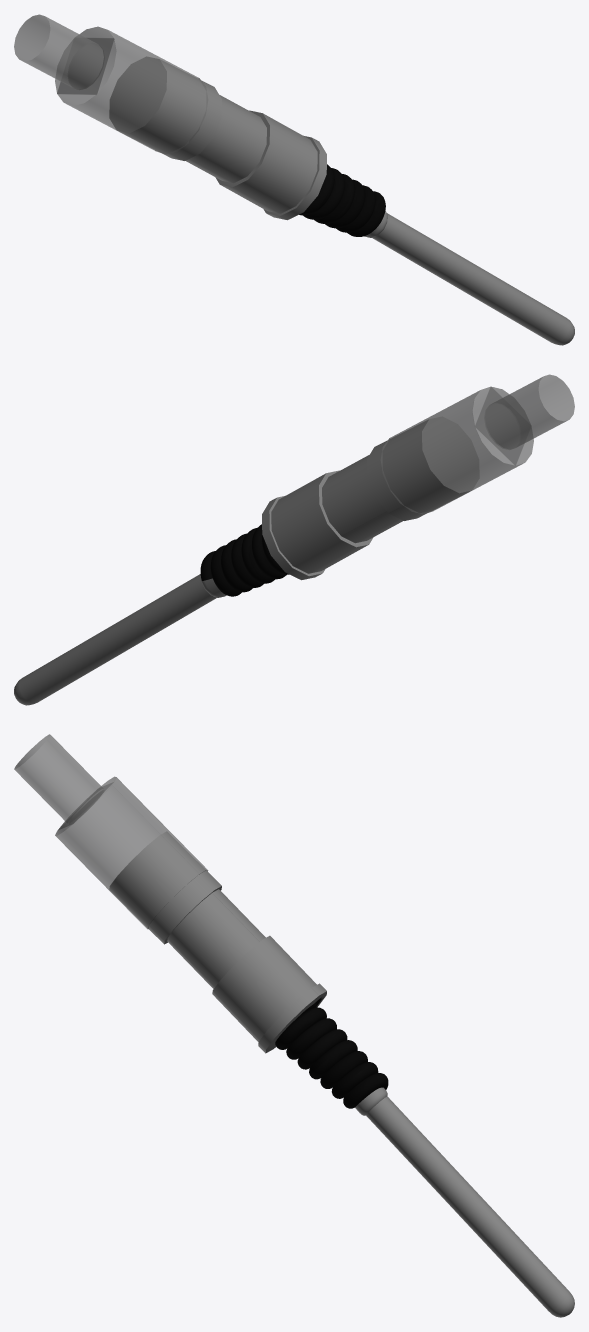
Rendered from 一次性采血针1.glb.
3 renders of one model, top to bottom at view 1: azimuth 30°, elevation 25°; view 2: azimuth 150°, elevation 25°; view 3: azimuth 330°, elevation 25°, orthographic.
Visible parts, largest first — view 1: Cylinder001, 对象002, Cylinder003, 对象001, Helix001; view 2: Cylinder001, 对象002, Cylinder003, 对象001, Helix001; view 3: Cylinder001, 对象002, Cylinder003, Helix001, 对象001.
Boxes of the visible parts, box(x1,y1,x2,y2) form: Cylinder001: box(109, 56, 326, 220); 对象002: box(55, 26, 208, 154); Cylinder003: box(372, 213, 574, 345); 对象001: box(14, 14, 104, 89); Helix001: box(299, 164, 385, 236); Cylinder001: box(262, 416, 479, 580); 对象002: box(380, 386, 533, 514); Cylinder003: box(14, 574, 216, 705); 对象001: box(484, 374, 574, 449); Helix001: box(200, 524, 289, 596); Cylinder001: box(109, 831, 326, 1053); 对象002: box(55, 776, 208, 929); Cylinder003: box(366, 1096, 574, 1317); Helix001: box(275, 1003, 388, 1108); 对象001: box(14, 734, 104, 824).
Bounding box in the file's own units: 0.00521 × 0.00408 × 0.000711.
Materials: 1 (1 with a texture image).
